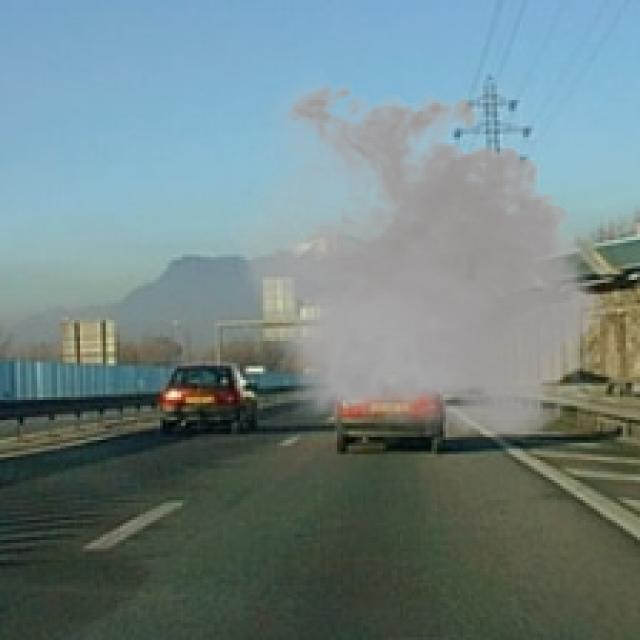smoke: (223, 71, 623, 452)
